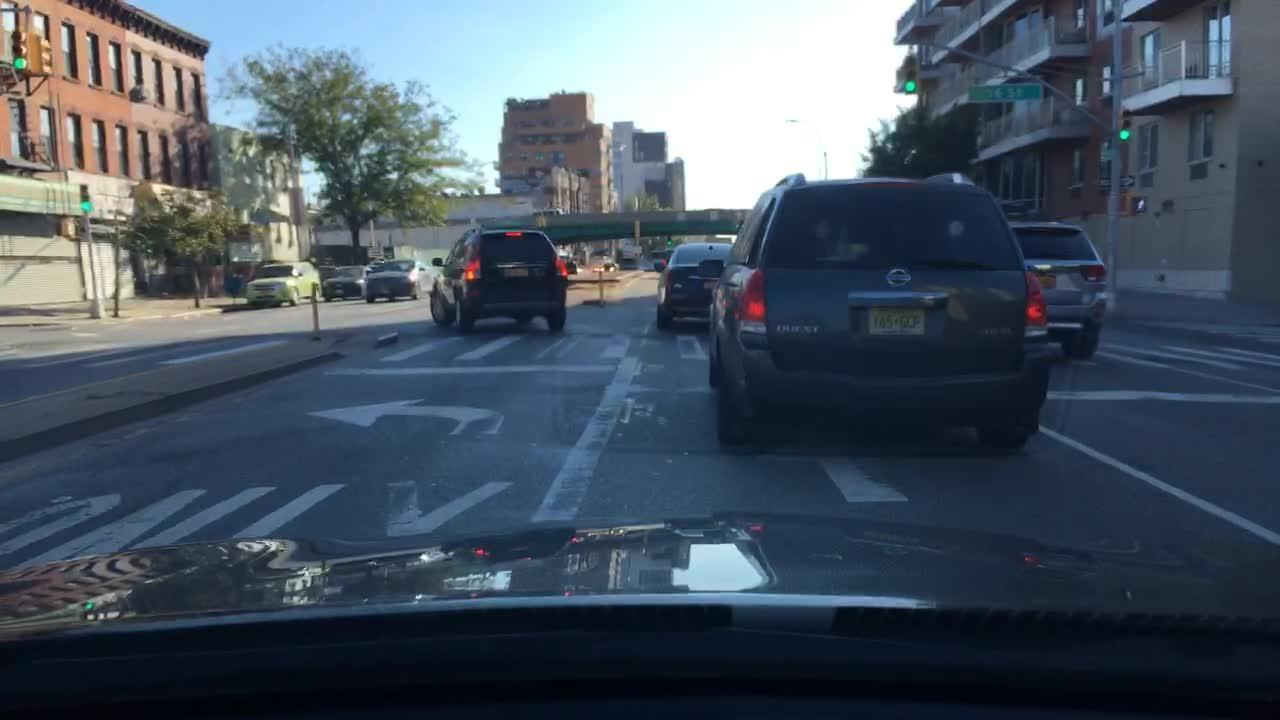Nissan: (872, 262, 924, 297)
